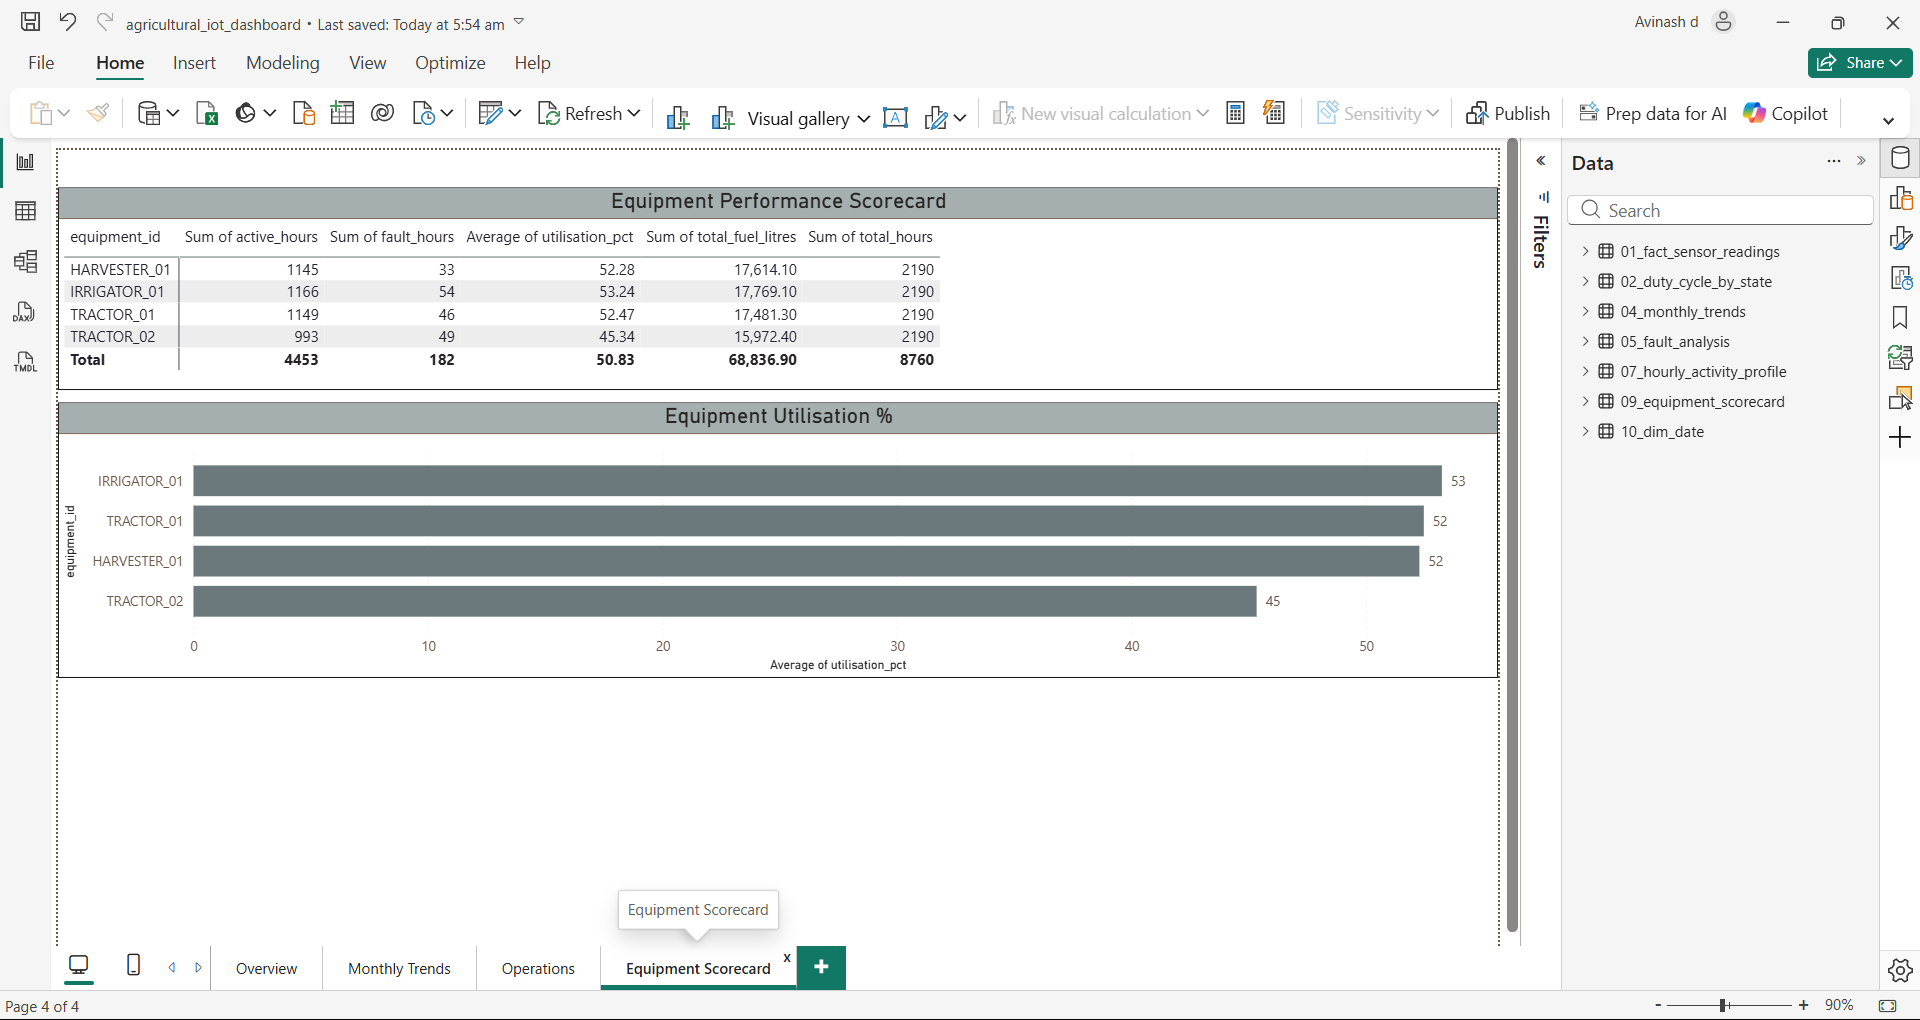

What the dashboard file says about the page in this screenshot:
{"tool":"powerbi","page":{"name":"Equipment Scorecard","canvas":[1280,720],"ordinal":3},"visuals":[{"type":"pivotTable","title":"Equipment Performance Scorecard","fields":{"Rows":["09_equipment_scorecard.equipment_id"],"Values":["Sum(09_equipment_scorecard.active_hours)","Sum(09_equipment_scorecard.fault_hours)","Avg(09_equipment_scorecard.utilisation_pct)","Sum(09_equipment_scorecard.total_fuel_litres)","Sum(09_equipment_scorecard.total_hours)"]},"box":[0,33.5,1280,180.3],"z":0},{"type":"clusteredBarChart","title":"Equipment Utilisation %","fields":{"Category":["09_equipment_scorecard.equipment_id"],"Y":["Avg(09_equipment_scorecard.utilisation_pct)"]},"box":[0,224.1,1280,244.7],"z":1}]}

Visuals, with their boxes on the page's 1280x720 design canvas (x1, y1, x2, y2). These are canvas units, not pixel positions in the 1920x1020 screenshot, which may show the page scaled, cropped or inside an application window:
"Equipment Performance Scorecard" pivotTable: [0, 34, 1280, 214]
"Equipment Utilisation %" clusteredBarChart: [0, 224, 1280, 469]
